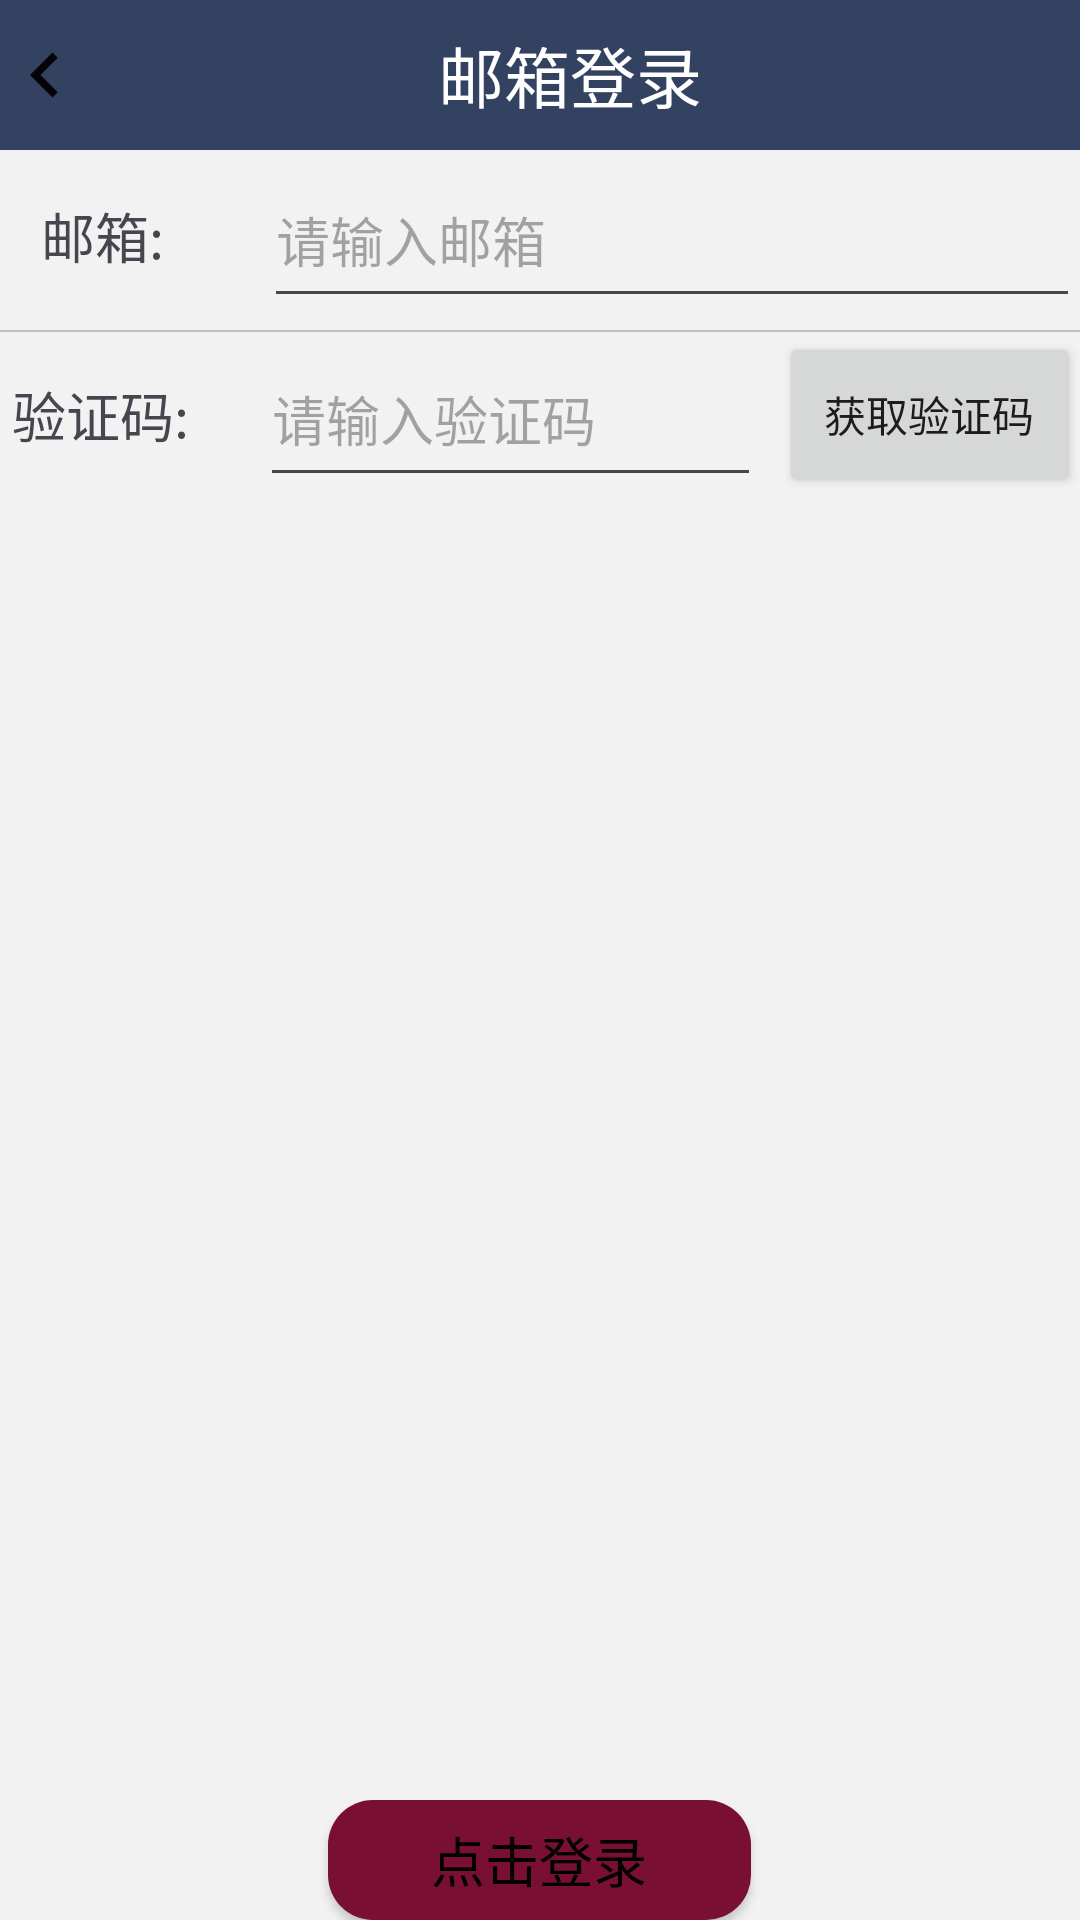

Screen size 1080 × 1920. Icon name, then its box in pixels as (x1=x1, y1=y1, x2=x2, y2=y2):
keyboard arrow left: (x1=30, y1=53, x2=58, y2=97)
